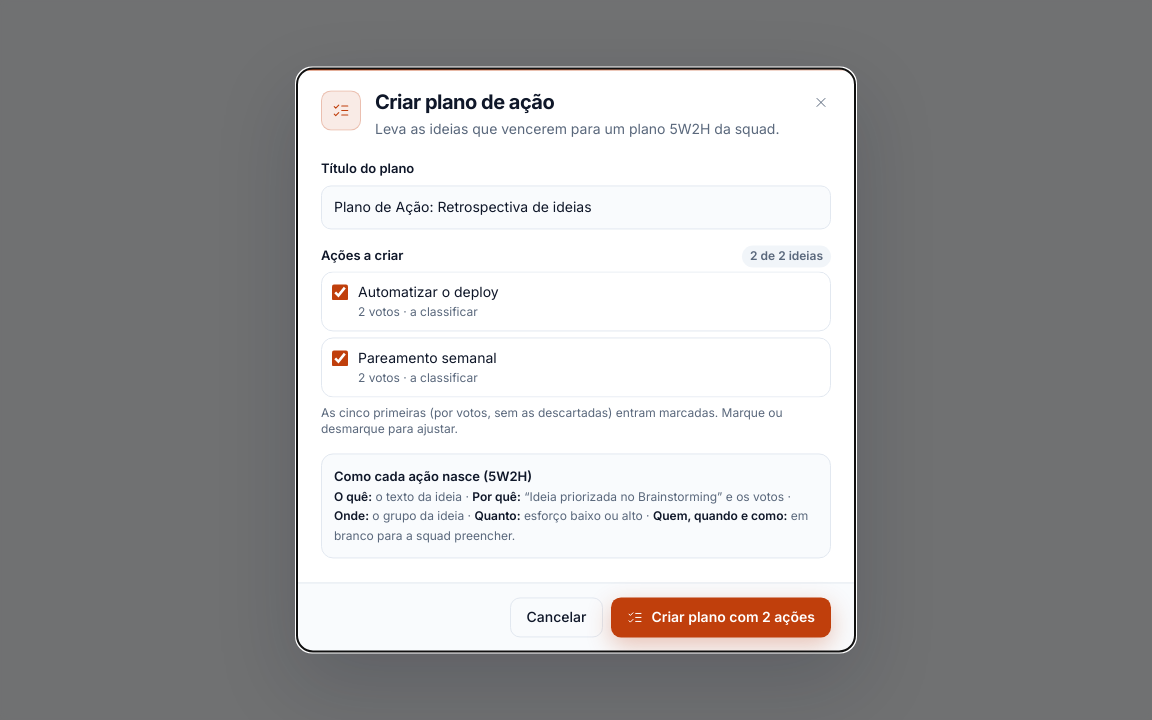
Scenario: Brainstorming: criar plano de ação com origem › cria o plano e cada ação enviando a sessão e a ideia como origem
The width and height of the screenshot is (1152, 720).
Click the button "Criar plano com 2 ações".
click(721, 618)  # box [611,598,831,638]
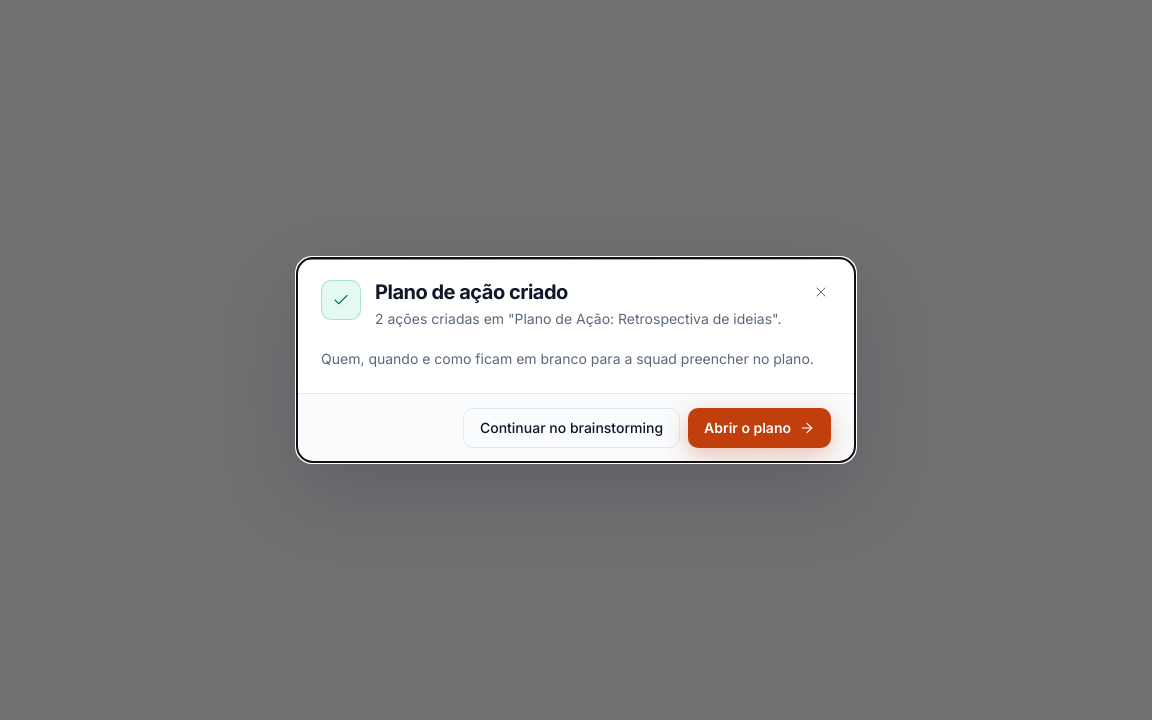
Expected: the heading "Plano de ação criado" is shown, [375,280,568,304]
